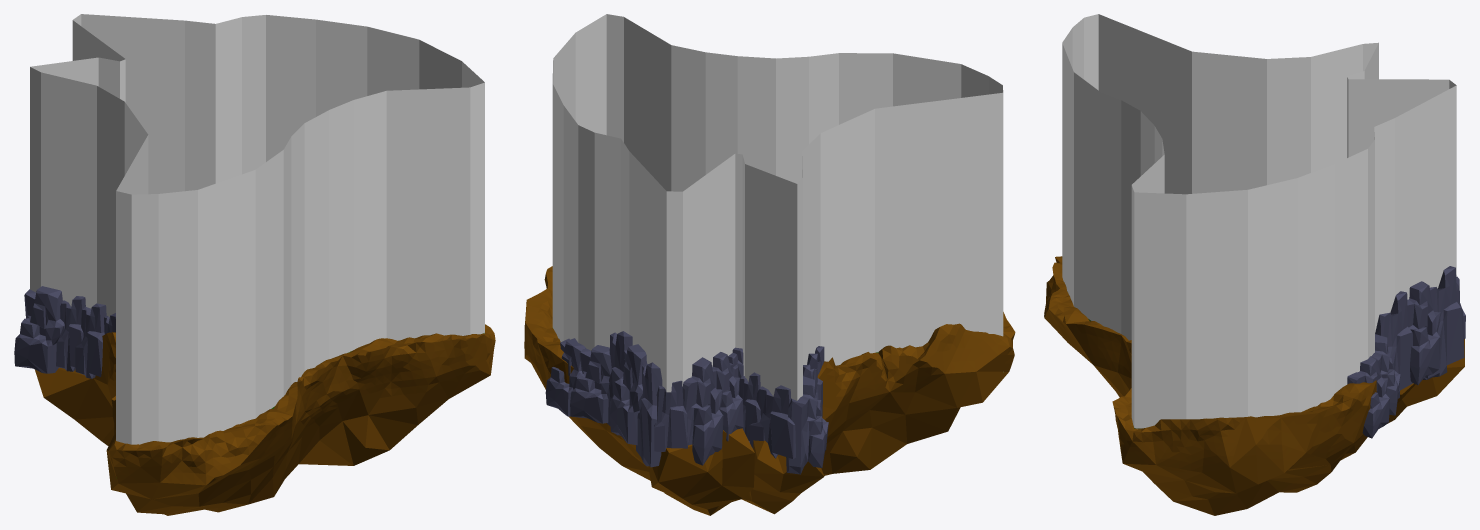
File: Main_Island_210328.fbx
The picture shows the model from 3 angles, left to right: view 1: azimuth 30°, elevation 25°; view 2: azimuth 150°, elevation 25°; view 3: azimuth 270°, elevation 25°; orthographic projection. The views are drawn at different scales.
Visible parts, largest first — view 1: Basic shape, Basic clone.001, Cube.002, Cube.006, Cube.008; view 2: Basic shape, Basic clone.001, Cube.005, Cube.002, Cube.025, Cube.021, Cube.020, Cube.023, Cube.022, Cube.004, Cube.026, Cube.019 (+1 smaller); view 3: Basic shape, Basic clone.001, Cube.021, Cube.022, Cube.024, Cube.026, Cube.025.
Boxes of the visible parts, x1=… form: Basic shape: x1=30, y1=14, x2=484, y2=444; Basic clone.001: x1=35, y1=324, x2=495, y2=515; Cube.002: x1=14, y1=286, x2=64, y2=373; Cube.006: x1=75, y1=303, x2=106, y2=378; Cube.008: x1=56, y1=296, x2=85, y2=371; Basic shape: x1=552, y1=14, x2=1003, y2=400; Basic clone.001: x1=524, y1=266, x2=1015, y2=515; Cube.005: x1=682, y1=357, x2=723, y2=465; Cube.002: x1=786, y1=376, x2=828, y2=474; Cube.025: x1=570, y1=345, x2=611, y2=423; Cube.021: x1=609, y1=344, x2=646, y2=445; Cube.020: x1=749, y1=385, x2=795, y2=458; Cube.023: x1=654, y1=380, x2=687, y2=451; Cube.022: x1=636, y1=362, x2=662, y2=467; Cube.004: x1=712, y1=352, x2=743, y2=441; Cube.026: x1=545, y1=338, x2=585, y2=416; Cube.019: x1=738, y1=372, x2=760, y2=442; Basic shape: x1=1062, y1=14, x2=1456, y2=428; Basic clone.001: x1=1044, y1=256, x2=1464, y2=515; Cube.021: x1=1407, y1=281, x2=1440, y2=384; Cube.022: x1=1423, y1=266, x2=1464, y2=379; Cube.024: x1=1375, y1=291, x2=1412, y2=398; Cube.026: x1=1347, y1=356, x2=1389, y2=438; Cube.025: x1=1372, y1=334, x2=1400, y2=415.
Bounding box in the file's own units: 7984 × 7374 × 7513.
4 materials, 1 textured.
